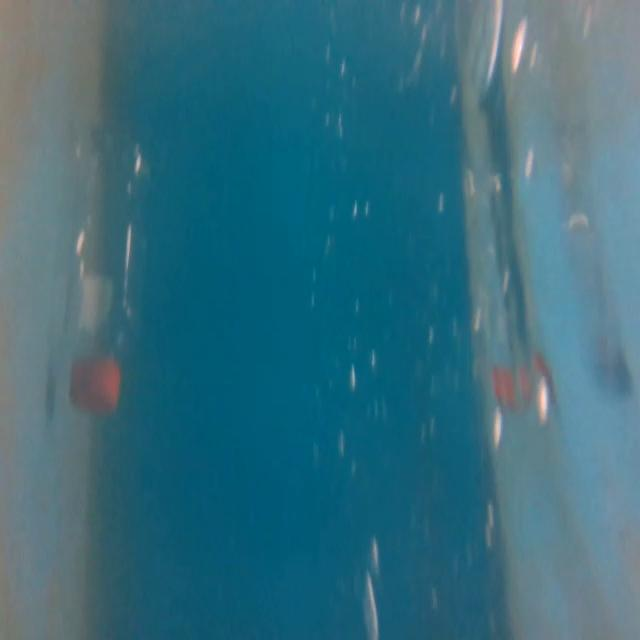plastic bottle: (56, 124, 158, 418)
